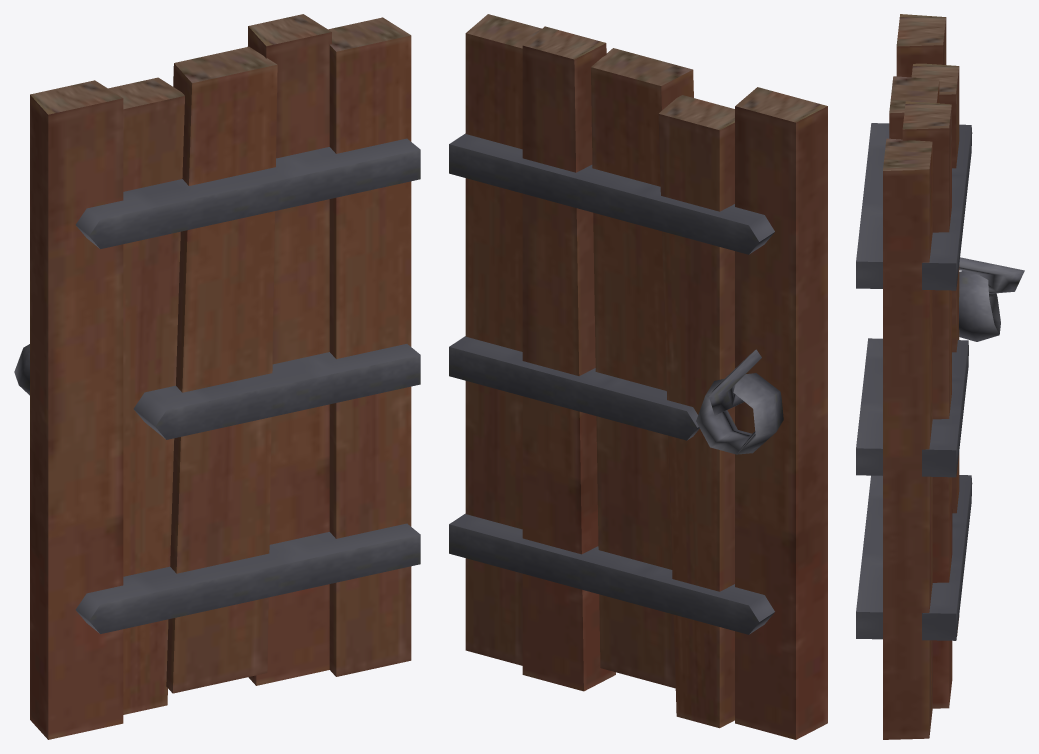
Rendered from underDoor.fbx.
3 views of the same model, side by side, from view 1: azimuth 30°, elevation 25°; view 2: azimuth 150°, elevation 25°; view 3: azimuth 270°, elevation 25° (orthographic). The views are drawn at different scales.
Parts seen in each view (by area): view 1: underDoor; view 2: underDoor; view 3: underDoor.
Boxes of the visible parts, box(x1,y1,x2,y2) form: underDoor: box(14, 14, 420, 739); underDoor: box(449, 14, 827, 739); underDoor: box(856, 14, 1024, 739).
Bounding box in the file's own units: 3.12 × 5.38 × 1.42.
